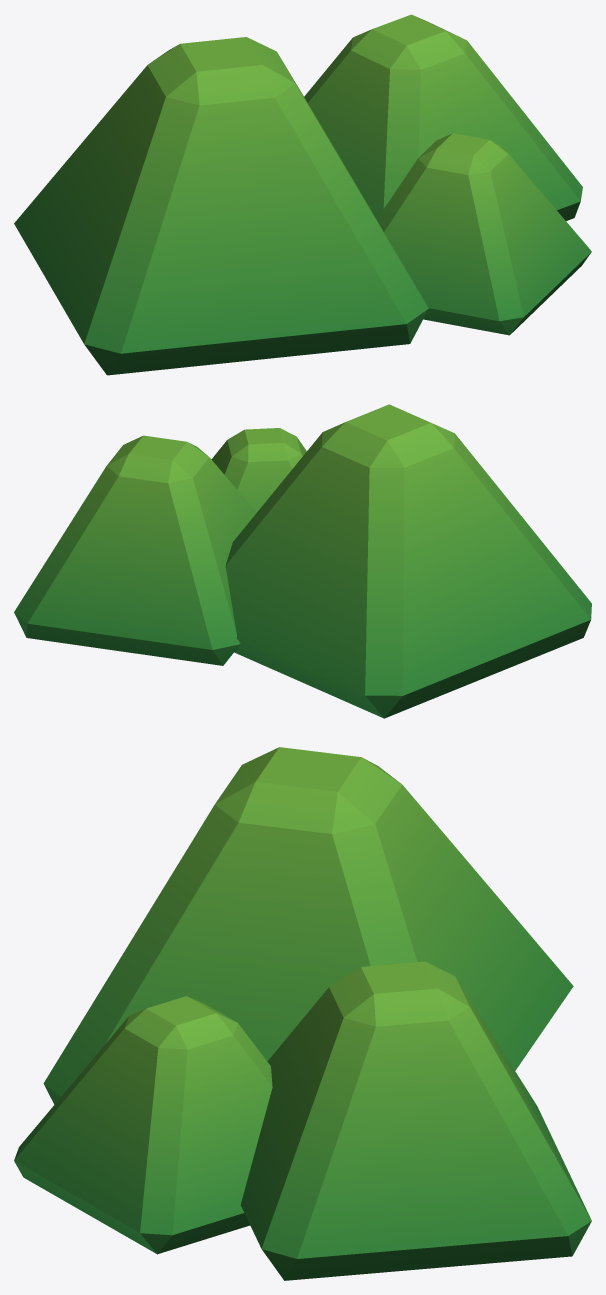
The model's file is kf_bush_4_d.fbx.
3 views of the same model, one above another, from view 1: azimuth 30°, elevation 25°; view 2: azimuth 150°, elevation 25°; view 3: azimuth 270°, elevation 25° (orthographic). The views are drawn at different scales.
Visible parts, largest first — view 1: kf_bush_4_d; view 2: kf_bush_4_d; view 3: kf_bush_4_d.
Part boxes in pixels (x1,y1,x2,y2): kf_bush_4_d: (14,14,591,375); kf_bush_4_d: (14,404,591,718); kf_bush_4_d: (14,747,591,1280).
Bounding box in the file's own units: 2.79 × 1.19 × 2.06.
Materials: 1 (1 with a texture image).
